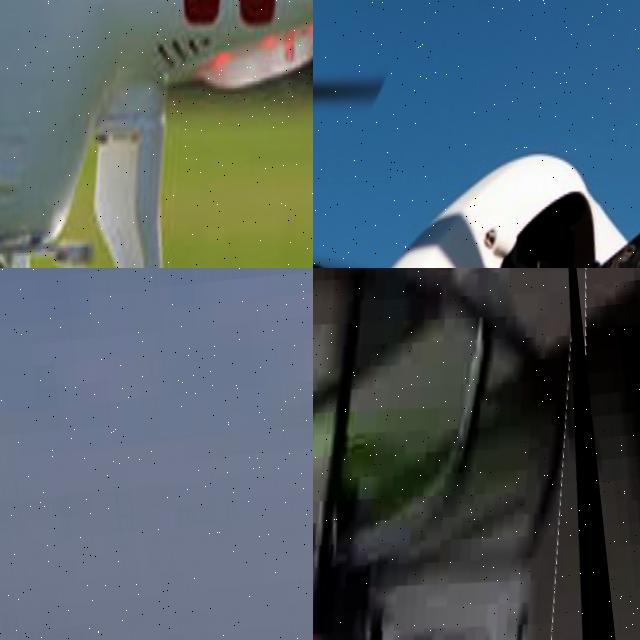0: (313, 268, 622, 640)
drone: (313, 0, 640, 268), (0, 0, 313, 268)
